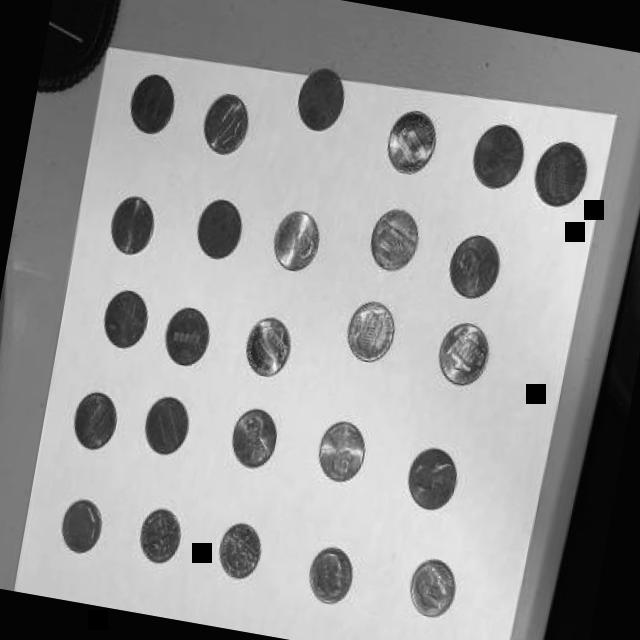Dime: (402, 551, 466, 619), (212, 514, 270, 580), (132, 500, 189, 565), (304, 540, 358, 604), (56, 494, 106, 552)
Penny: (524, 132, 594, 213), (464, 110, 532, 193), (266, 196, 329, 276), (362, 200, 426, 276), (444, 227, 506, 302), (382, 104, 444, 178), (432, 316, 494, 390), (158, 297, 219, 372), (293, 58, 352, 134), (400, 442, 464, 511), (96, 280, 155, 354), (313, 416, 373, 488), (342, 294, 402, 366), (200, 86, 256, 159), (192, 190, 248, 263), (65, 384, 124, 452), (137, 389, 195, 458), (224, 401, 282, 470), (125, 65, 180, 136), (240, 309, 294, 377), (106, 191, 159, 259)
